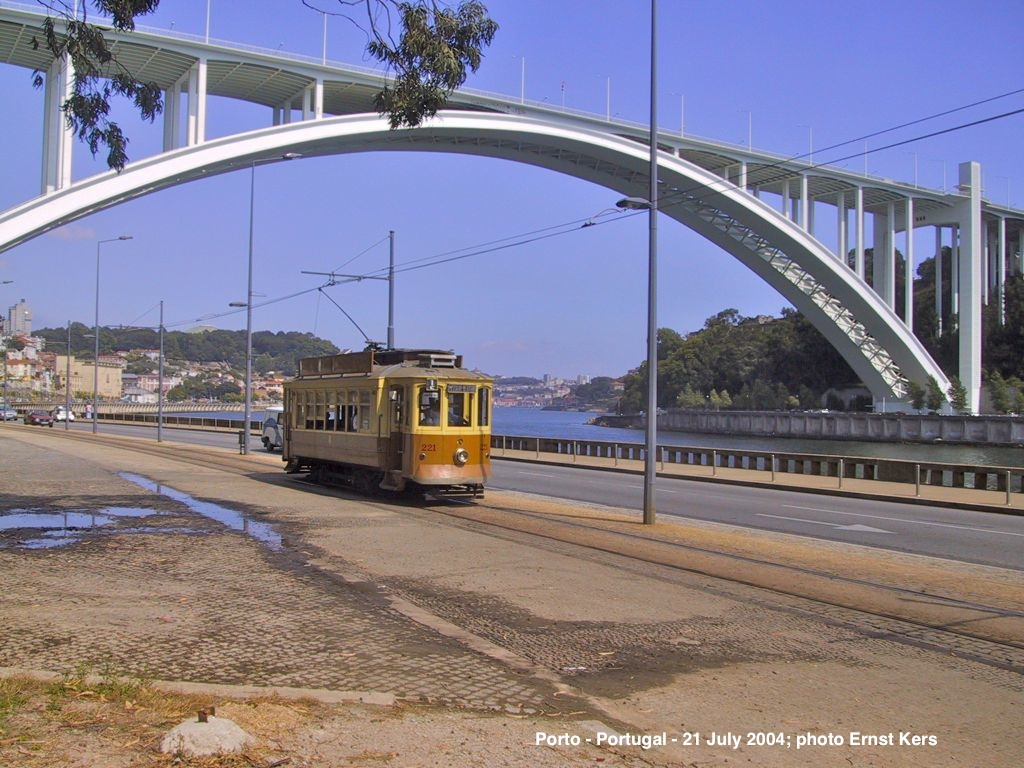arrabida: (0, 0, 1023, 415)
